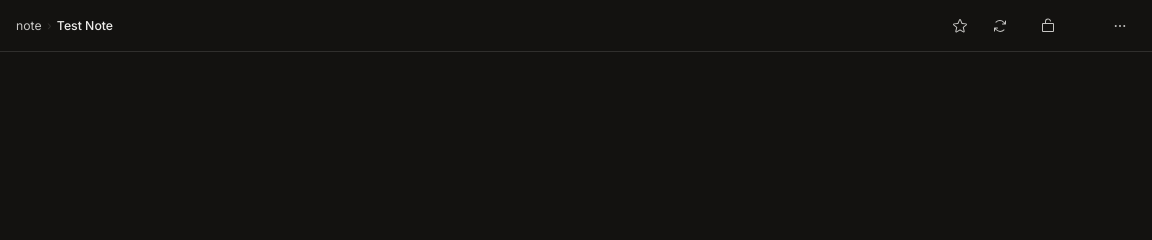
Scenario: BreadcrumbBar — narrow layout keeps title, overflow trigger, and close visible › does not duplicate favorite/organized/reload/lock actions in the permanent overflow menu when not collapsed
Press the mouse on the button named "More note actions": (1120, 26) [1104, 10, 1136, 42]
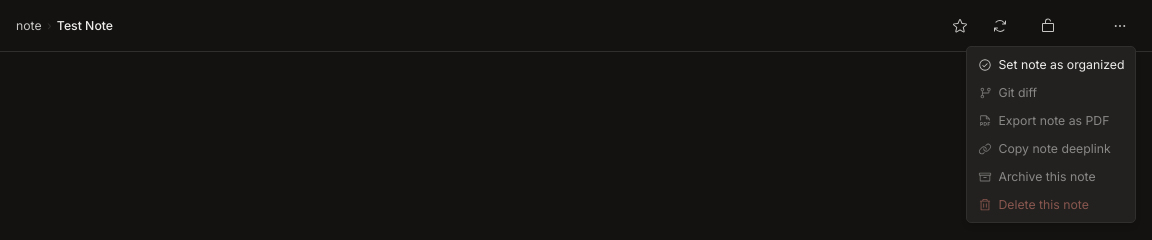
Check: the menu item "Set note as organized" is shown, box [978, 57, 1124, 72]
